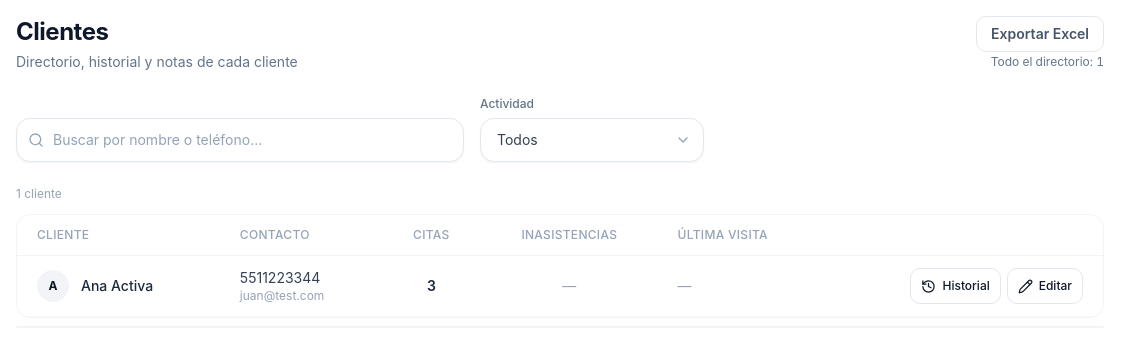
Scenario: ClientesPage — filtro de actividad › el desplegable ofrece Todos, Activos e Inactivos
The image size is (1121, 348).
Click the button named "Actividad". click: (592, 140)
box: [480,118,704,162]
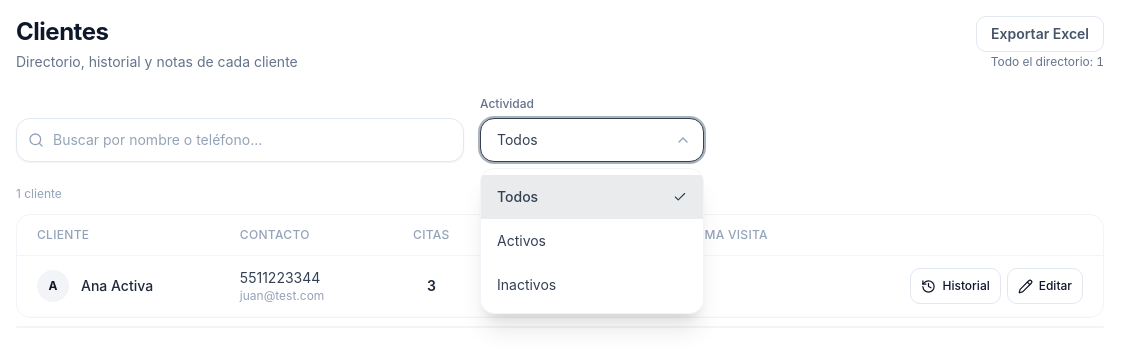
Result: the option "Todos" is shown at [481,175,703,219]
Result: the option "Activos" is shown at [481,219,703,263]
Result: the option "Inactivos" is shown at [481,263,703,307]
